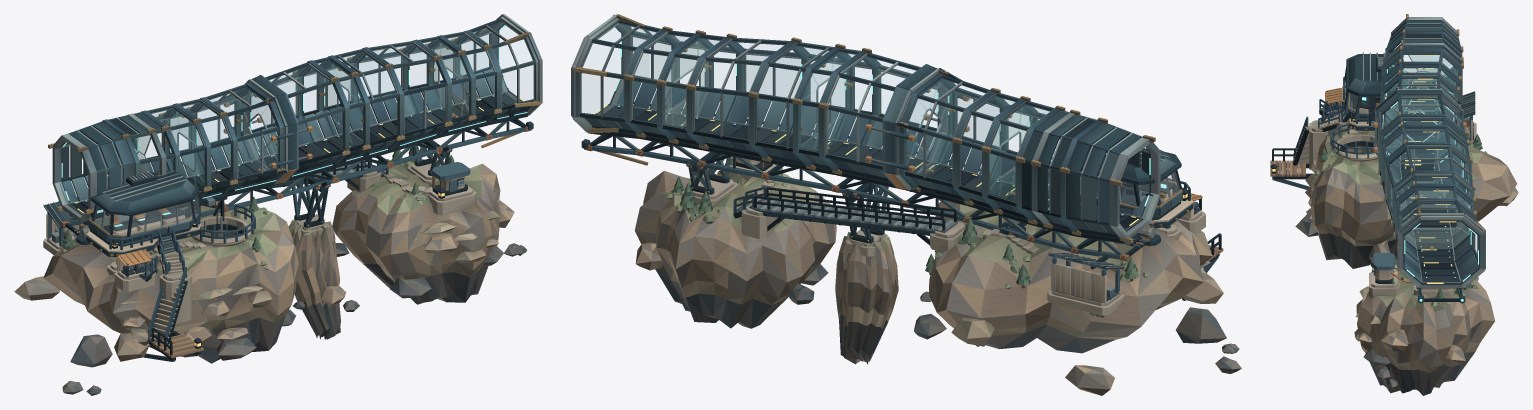
Rendered from sofaraway.glb.
3 views of the same model, side by side, from view 1: azimuth 30°, elevation 25°; view 2: azimuth 150°, elevation 25°; view 3: azimuth 270°, elevation 25° (orthographic). The views are drawn at different scales.
Parts seen in each view (by area): view 1: SoFarAway — The Beatline; view 2: SoFarAway — The Beatline; view 3: SoFarAway — The Beatline.
Boxes of the visible parts, x1,y1,x2,y2 form: SoFarAway — The Beatline: [14, 14, 542, 395]; SoFarAway — The Beatline: [571, 14, 1241, 395]; SoFarAway — The Beatline: [1270, 14, 1518, 395].
Size of the model in its own units: 26.18 by 13.1 by 12.42.
9 materials, 1 textured.
